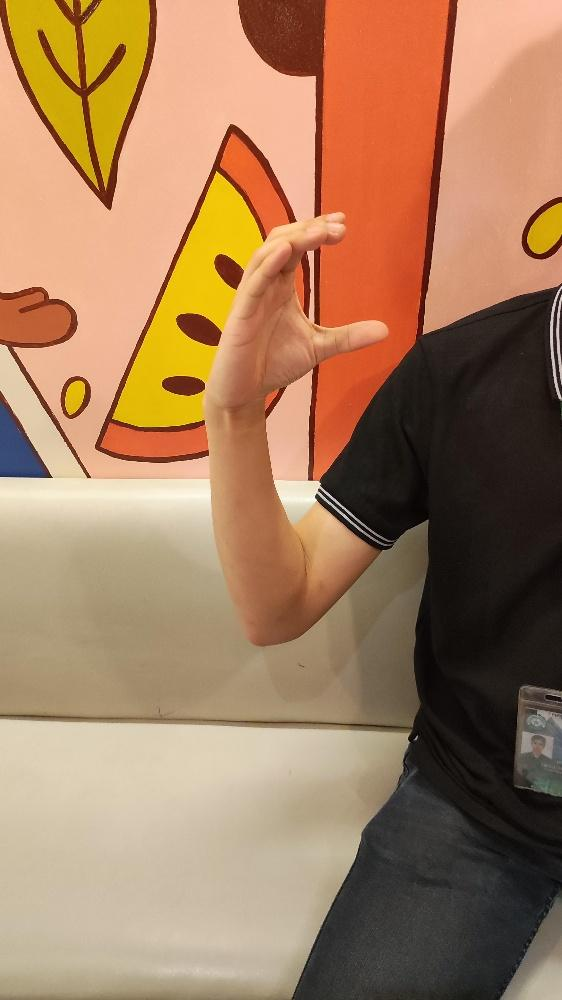c: (208, 208, 389, 407)
